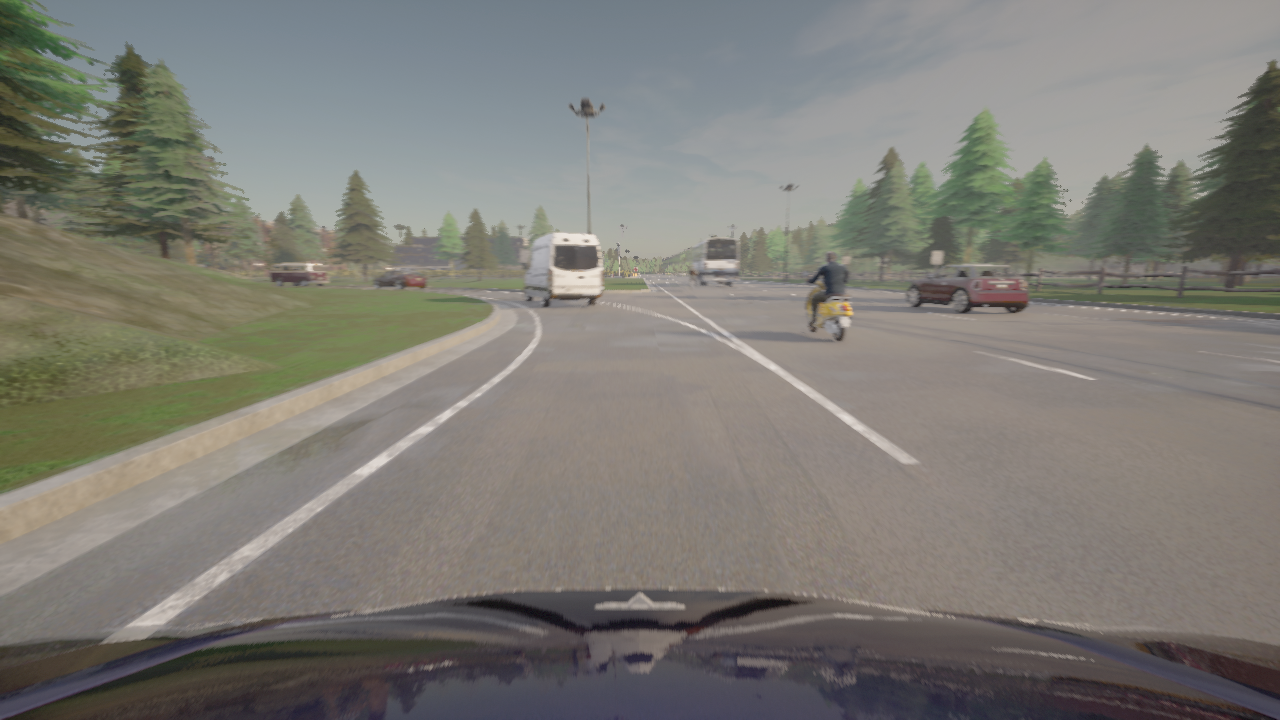cyclist: (0, 588, 1279, 719), (522, 233, 602, 307), (905, 265, 1028, 313), (802, 272, 852, 341), (687, 237, 738, 286), (270, 263, 328, 287), (373, 269, 427, 289), (690, 279, 693, 288)
